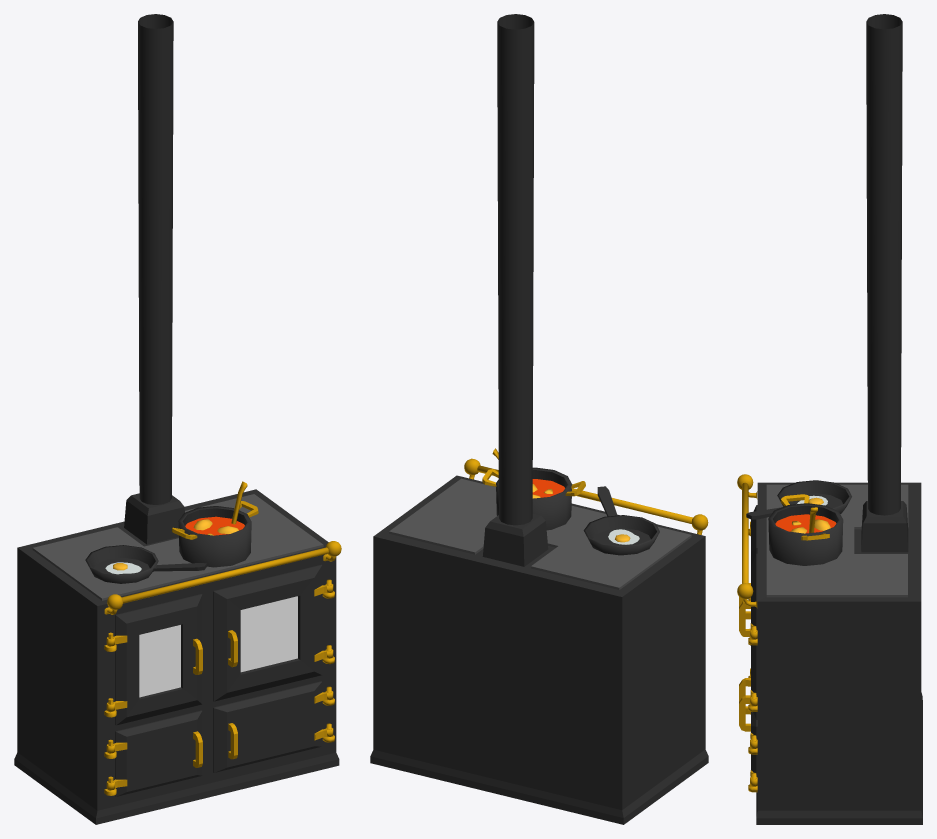
Rendered from cast-iron-stove.glb.
3 renders of one model, left to right at view 1: azimuth 30°, elevation 25°; view 2: azimuth 150°, elevation 25°; view 3: azimuth 270°, elevation 25°, orthographic. The views are drawn at different scales.
Parts seen in each view (by area): view 1: CastIronStove, CastIronStove_WithoutDoors, FireChamberDoor, CastIronPot, CastIronStove_OvenDoor, CastIronPan, CastIronStove_SmallOvenDoor; view 2: CastIronStove, CastIronStove_WithoutDoors, CastIronPan, CastIronPot; view 3: CastIronStove, CastIronStove_WithoutDoors, CastIronPot, CastIronPan, StewPotLiquid.
Boxes of the visible parts, box(x1,y1,x2,y2) form: CastIronStove: box(14, 14, 341, 824); CastIronStove_WithoutDoors: box(17, 489, 326, 817); FireChamberDoor: box(129, 594, 202, 715); CastIronPot: box(172, 501, 258, 567); CastIronStove_OvenDoor: box(214, 569, 317, 701); CastIronPan: box(85, 545, 206, 583); CastIronStove_SmallOvenDoor: box(214, 682, 319, 771); CastIronStove: box(370, 14, 708, 824); CastIronStove_WithoutDoors: box(374, 475, 707, 808); CastIronPan: box(583, 486, 659, 555); CastIronPot: box(482, 467, 585, 530); CastIronStove: box(737, 14, 922, 824); CastIronStove_WithoutDoors: box(757, 482, 922, 818); CastIronPot: box(768, 494, 843, 565); CastIronPan: box(746, 480, 851, 519); StewPotLiquid: box(775, 514, 836, 533).
Size of the model in its own units: 1.26 by 3.6 by 0.8155.
4 materials, 2 textured.
